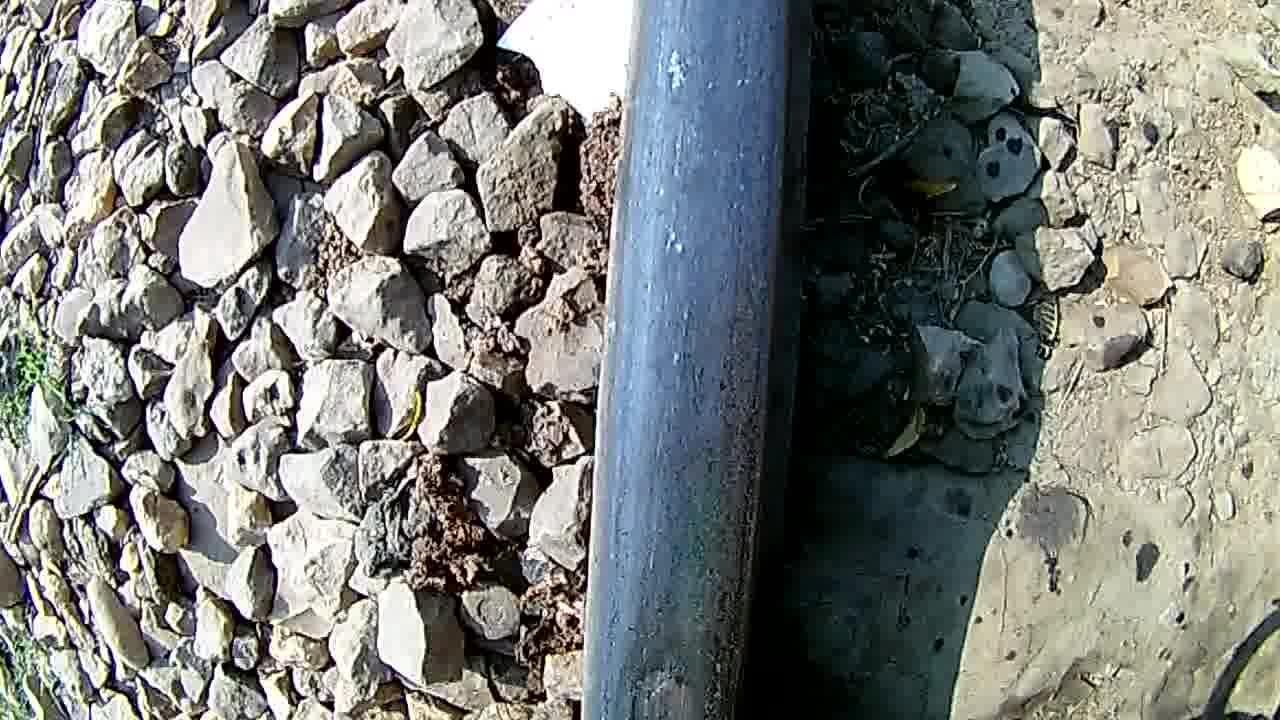bolt_missing: (598, 523, 752, 720)
